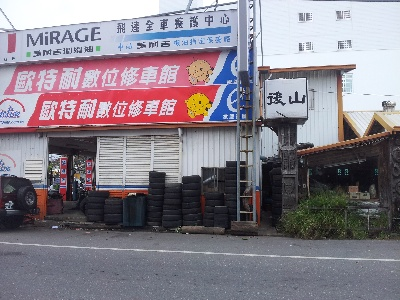tire: (104, 213, 124, 223), (103, 205, 124, 214), (225, 185, 246, 194), (181, 219, 203, 227), (104, 197, 123, 206), (227, 206, 246, 215), (204, 191, 225, 199), (204, 199, 225, 207), (225, 160, 246, 168), (225, 167, 246, 175), (225, 179, 246, 187), (227, 214, 248, 222), (160, 221, 183, 228), (181, 175, 201, 183), (224, 199, 244, 207), (181, 189, 200, 197), (225, 192, 243, 200), (181, 183, 201, 190), (225, 173, 245, 180), (146, 204, 163, 212), (163, 198, 182, 205), (181, 196, 200, 203), (181, 202, 200, 209), (183, 214, 202, 221), (164, 192, 182, 199), (88, 190, 106, 197), (215, 219, 230, 227), (87, 203, 104, 210), (86, 208, 103, 215), (86, 214, 103, 221), (162, 215, 181, 221), (182, 208, 201, 214), (149, 182, 165, 189), (147, 194, 163, 201), (148, 199, 162, 207), (163, 209, 181, 215), (87, 197, 105, 203), (149, 171, 166, 177), (147, 188, 164, 194), (165, 182, 182, 188), (165, 187, 182, 193), (149, 177, 165, 183), (213, 214, 229, 220), (162, 205, 181, 210), (147, 211, 162, 217), (214, 208, 229, 214), (146, 217, 163, 222), (145, 221, 162, 226)
